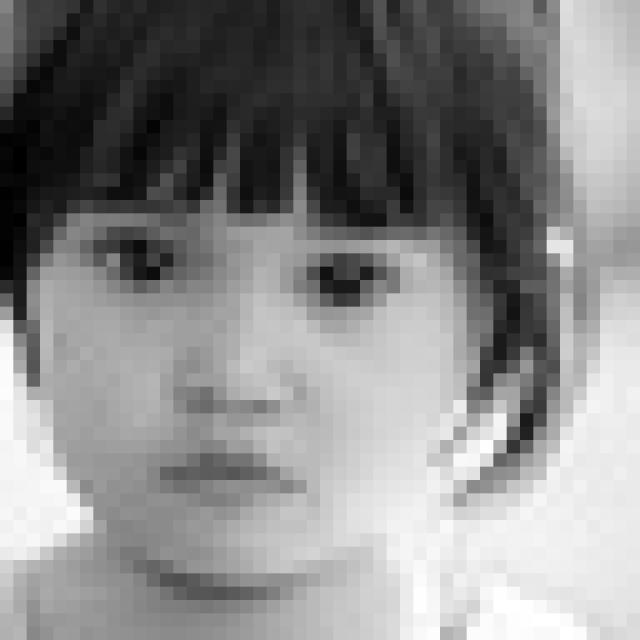neutral: (72, 169, 416, 520)
